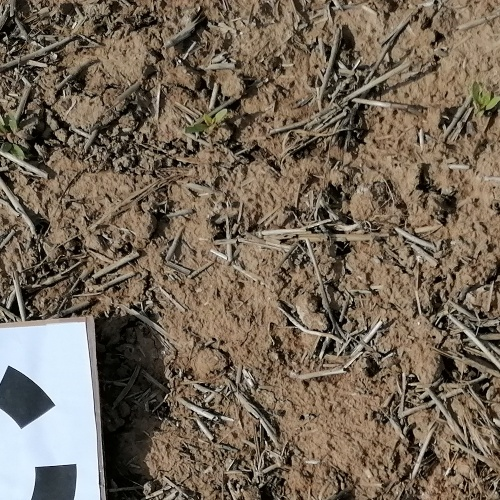beet: (186, 108, 228, 133), (470, 80, 500, 115)
